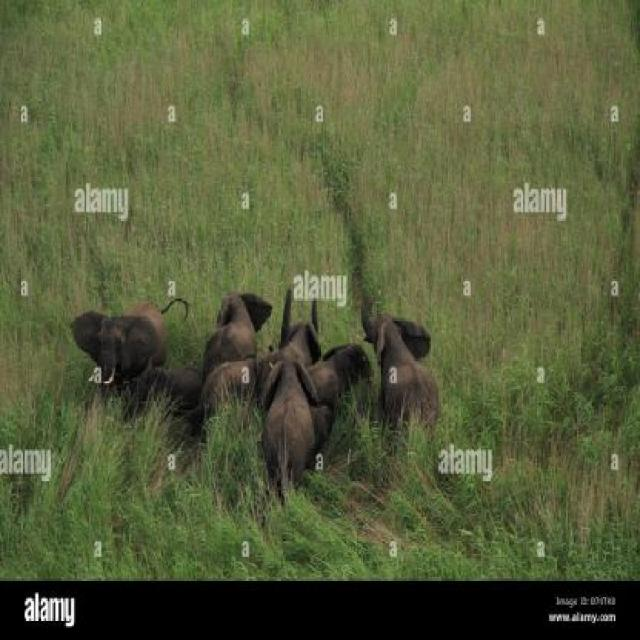elephant: (364, 292, 447, 458), (70, 276, 164, 401), (263, 359, 328, 498), (309, 326, 374, 442), (190, 334, 252, 452), (207, 274, 267, 358), (273, 292, 330, 371), (141, 362, 199, 423)
